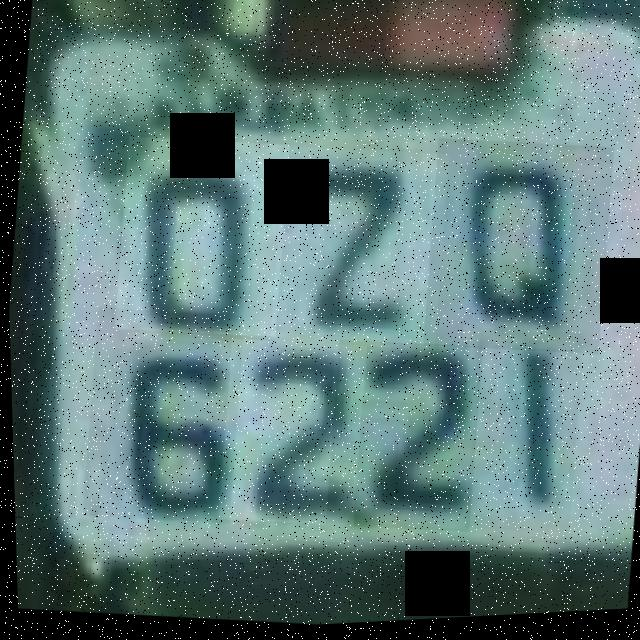1: (457, 328, 586, 543)
2: (317, 337, 484, 542), (211, 336, 368, 535)
6: (74, 302, 247, 531)
O: (415, 135, 617, 367), (108, 131, 292, 346)
Z: (264, 142, 453, 360)
